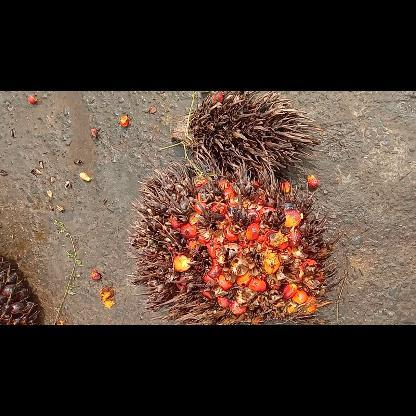Janjang kosong: (170, 91, 322, 173)
Terlalu masak: (127, 158, 342, 324)
